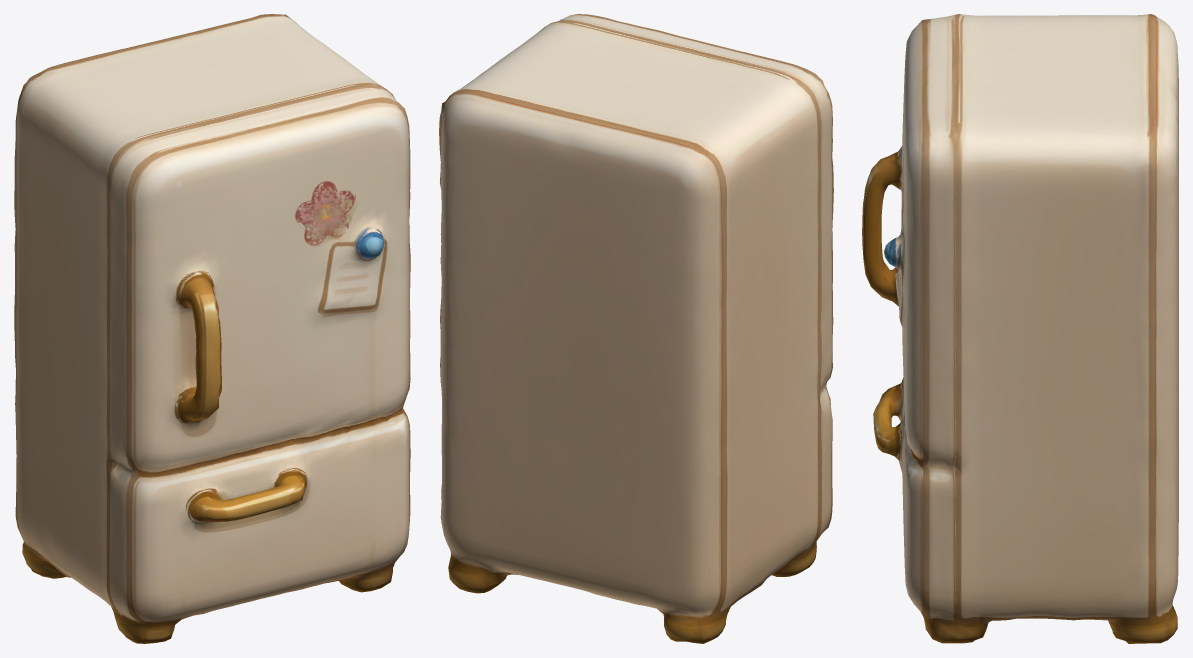
File: Cream_ice_box.glb
3 renders of one model, left to right at view 1: azimuth 30°, elevation 25°; view 2: azimuth 150°, elevation 25°; view 3: azimuth 270°, elevation 25°, orthographic. The views are drawn at different scales.
Visible parts, largest first — view 1: RETOPO; view 2: RETOPO; view 3: RETOPO.
Part boxes in pixels (<box>): RETOPO: <box>14,14,410,643</box>; RETOPO: <box>439,14,833,643</box>; RETOPO: <box>862,14,1178,643</box>.
Size of the model in its own units: 0.5881 by 0.9704 by 0.5437.
1 material, 1 textured.
